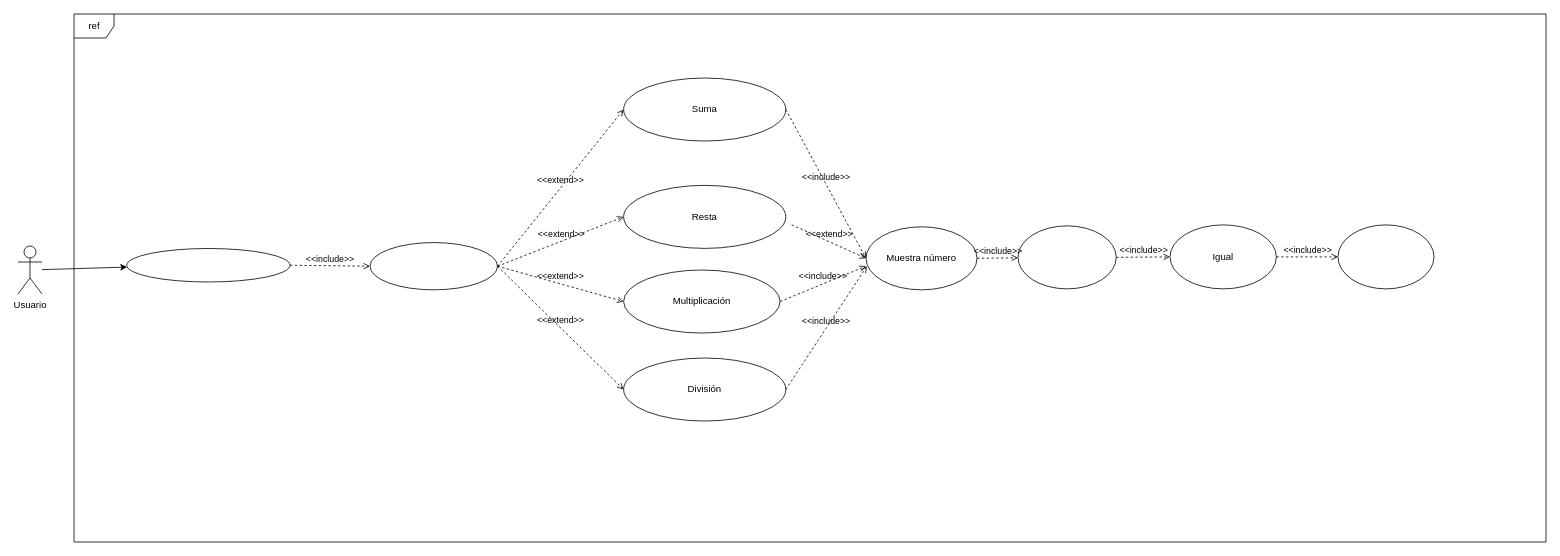
This 1560x556 diagram has some shape labels left out. The shapes that lost their labels are listed below. From the top down, each one's centre as x and y in pixels, then its label:
the point at 208,265: Introduce primer número
the point at 433,266: Se muestra número
the point at 1066,257: Introduce segundo número
the point at 1385,256: Muestra resultado
